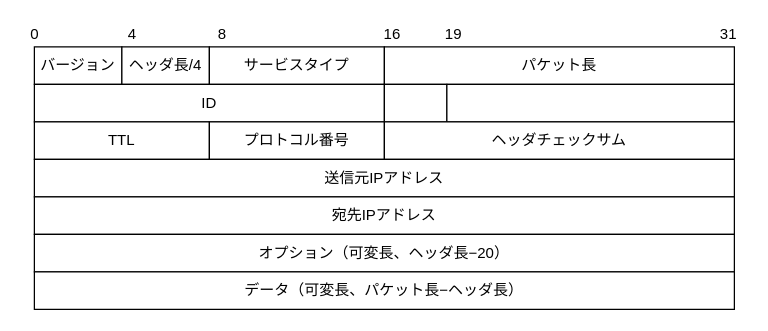
The diagram is 768 pixels wide and 331 high, and some of its shapes have lost their labels. The shapes that lost their labels are listed below. From the top down, each one's centre as x and y in pixels, then its label:
At point (415, 102): "フラグ".
At point (590, 102): "フラグメントオフセット".
